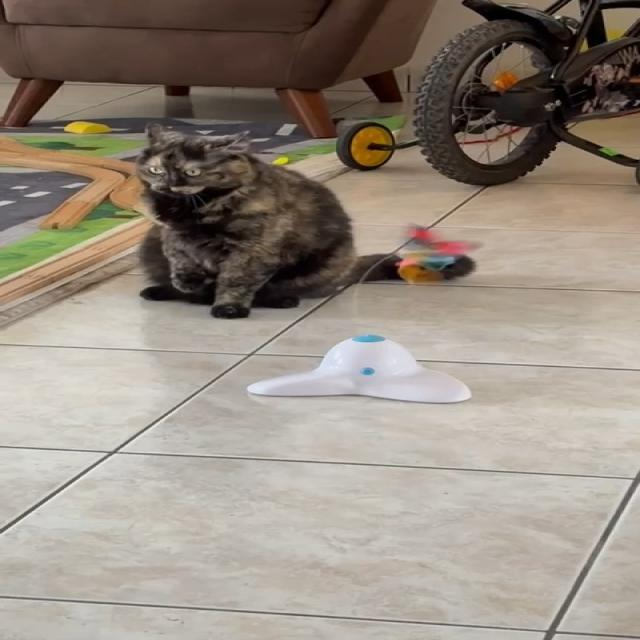authorized: (132, 122, 476, 318)
